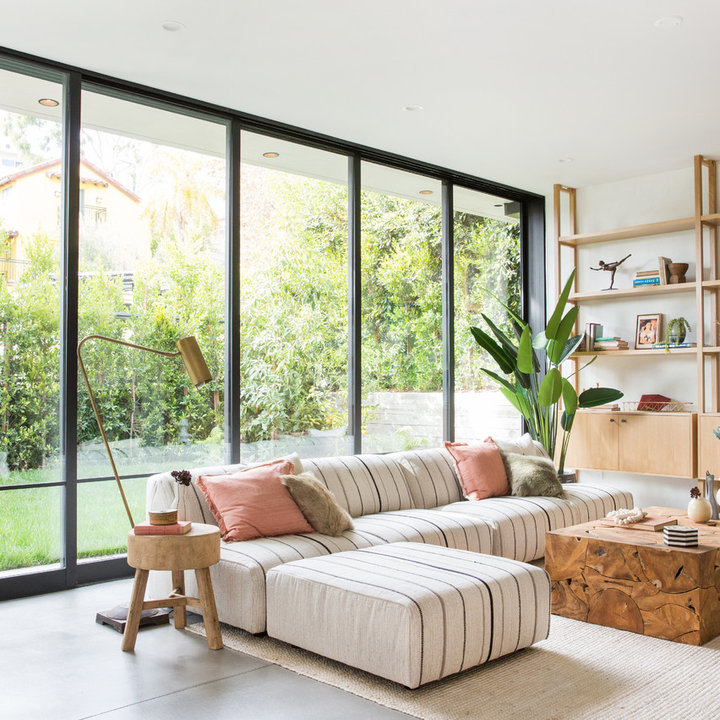floor lamp: (73, 326, 215, 640)
large plant: (467, 271, 622, 462)
side table: (120, 523, 227, 655)
sofa: (144, 432, 639, 690)
table: (543, 500, 720, 651)
